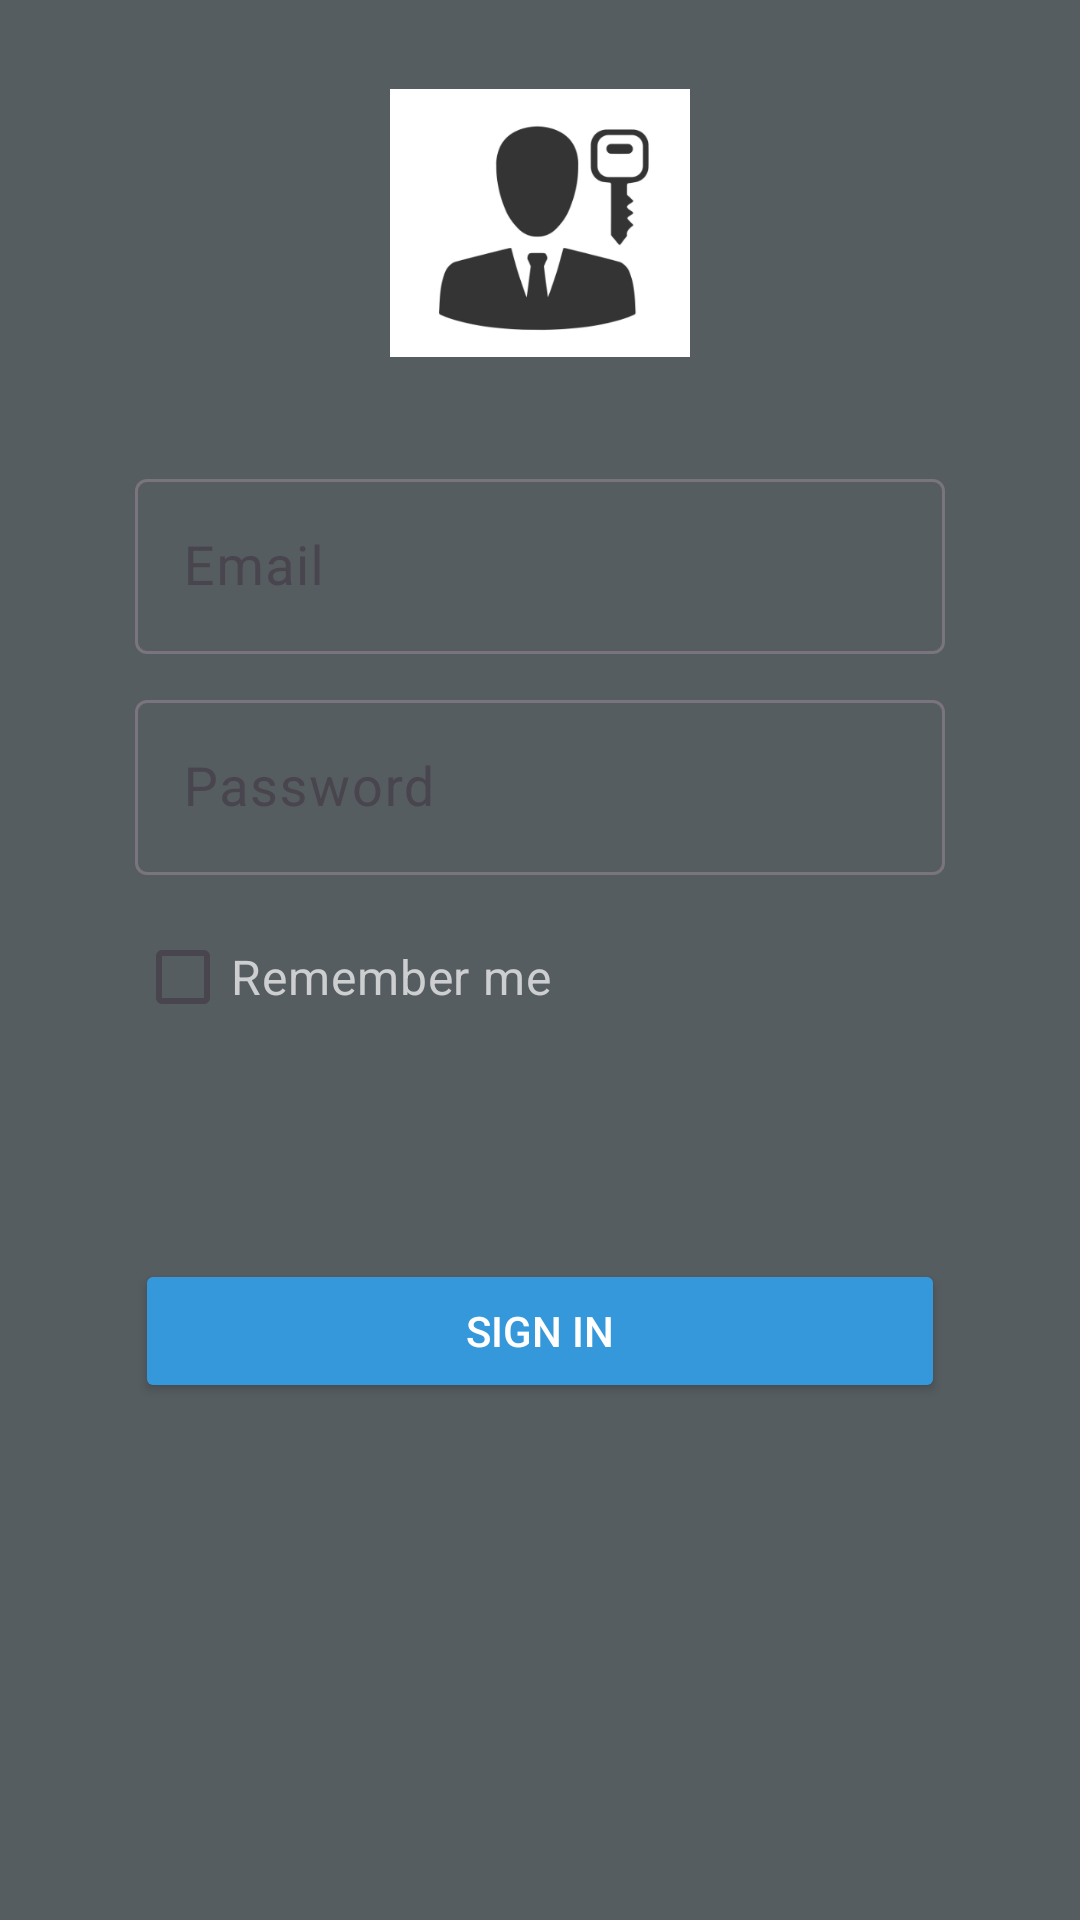

Named icons in this screenshot (1080*1920) and their centers, (x,y):
signin: (540,223)
